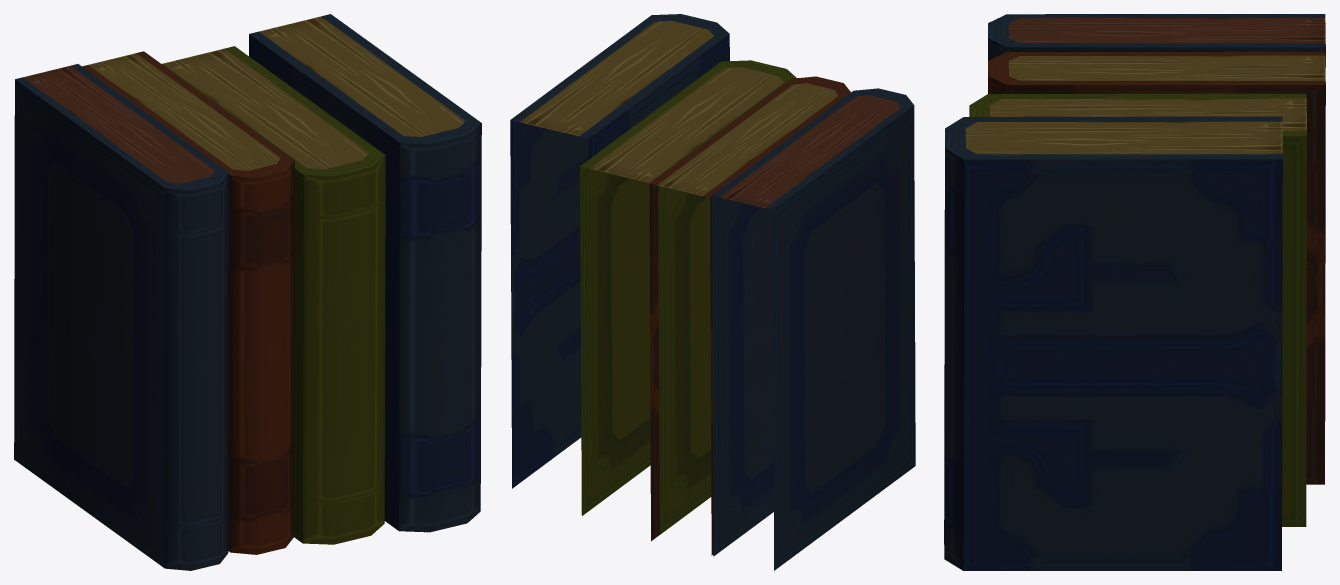
The model's file is bookgroup_small_2.gltf.
The picture shows the model from 3 angles, left to right: view 1: azimuth 30°, elevation 25°; view 2: azimuth 150°, elevation 25°; view 3: azimuth 270°, elevation 25°; orthographic projection. The views are drawn at different scales.
Parts seen in each view (by area): view 1: BookGroup_Small_2; view 2: BookGroup_Small_2; view 3: BookGroup_Small_2.
Part boxes in pixels (left/top/right/bottom): BookGroup_Small_2: left=14, top=14, right=481, bottom=570; BookGroup_Small_2: left=510, top=14, right=915, bottom=570; BookGroup_Small_2: left=944, top=14, right=1325, bottom=570.
Bounding box in the file's own units: 0.2276 × 0.2831 × 0.2372.
Materials: 1 (1 with a texture image).
